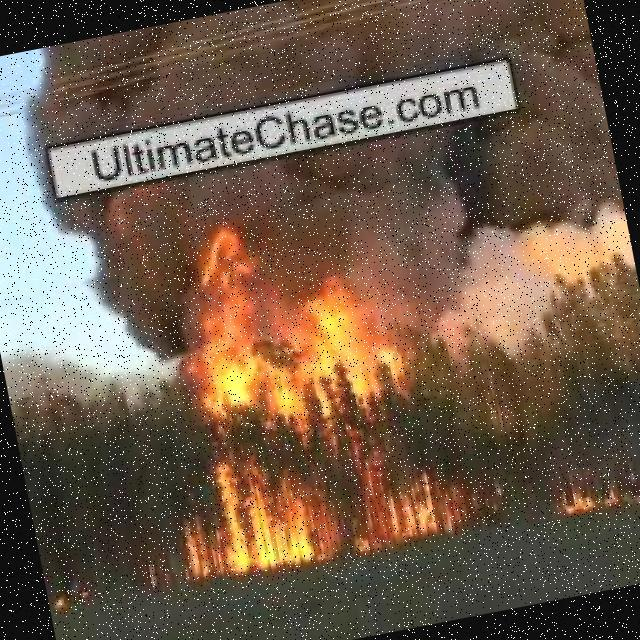Fire: (147, 395, 509, 583), (178, 190, 431, 435), (550, 464, 640, 518)
